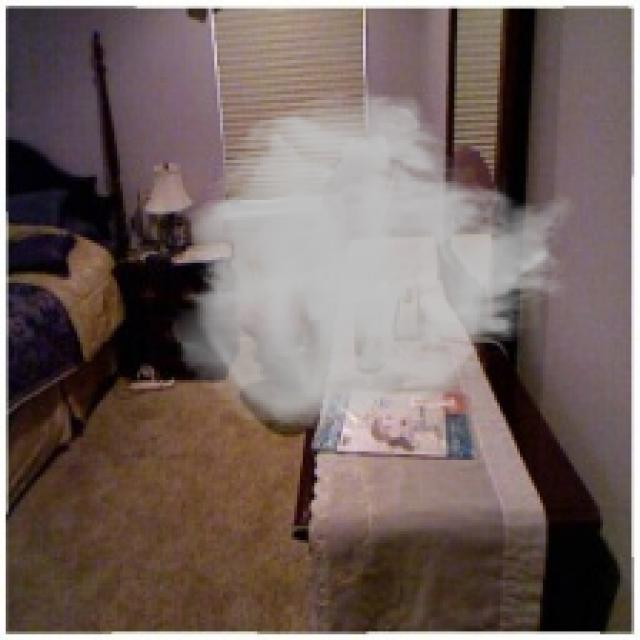smoke: (169, 89, 580, 434)
